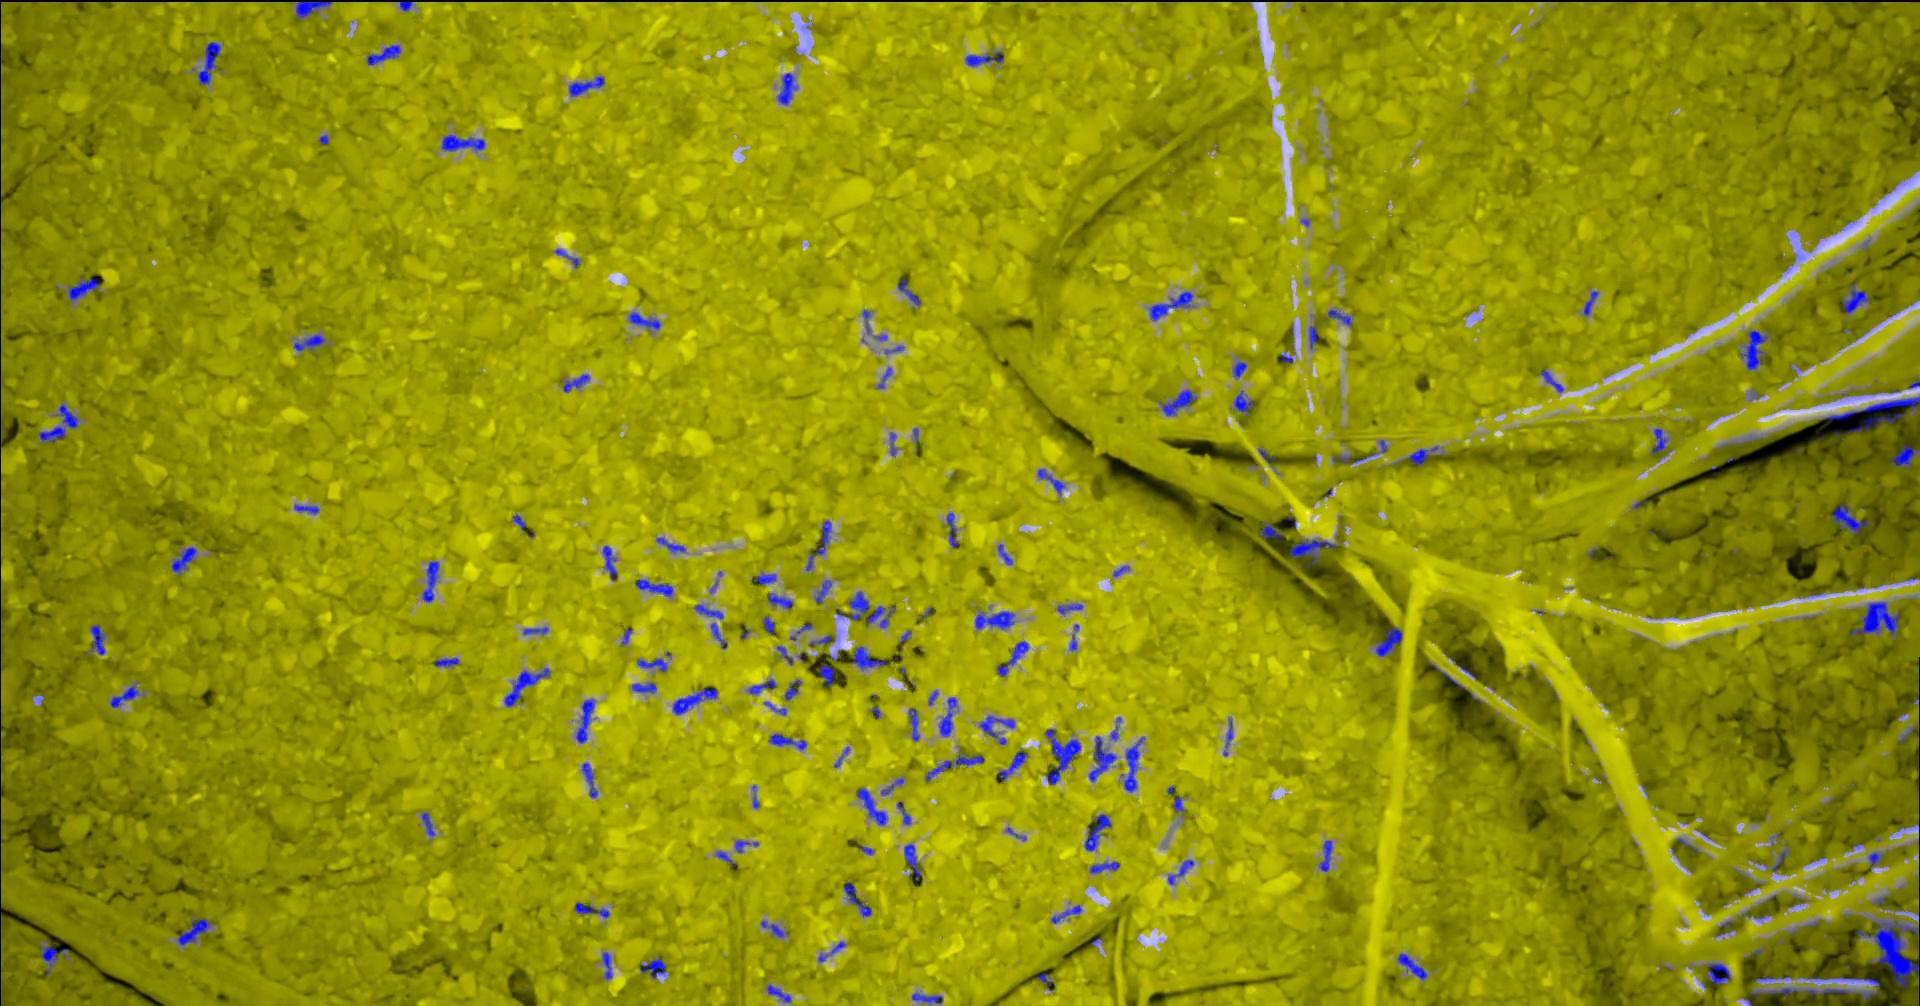ant: (1820, 396, 1919, 433), (1749, 976, 1879, 998), (1044, 728, 1079, 784), (1848, 601, 1898, 636), (504, 667, 549, 706), (924, 753, 983, 780), (38, 403, 77, 441), (1289, 539, 1337, 567), (805, 520, 830, 570), (1831, 500, 1868, 535), (1149, 291, 1192, 320), (672, 687, 717, 714), (1088, 735, 1115, 781), (1123, 735, 1144, 791), (996, 640, 1029, 676), (856, 788, 888, 824), (1738, 330, 1768, 370), (979, 715, 1015, 744), (41, 939, 69, 976), (197, 41, 220, 84), (1084, 813, 1111, 850), (997, 749, 1027, 781), (836, 591, 869, 620), (843, 882, 871, 916), (1161, 389, 1196, 415), (1841, 282, 1870, 312), (177, 918, 210, 945), (575, 699, 594, 743), (851, 647, 886, 669), (568, 75, 604, 97), (1397, 953, 1426, 979), (441, 133, 484, 151), (110, 685, 143, 708), (1375, 626, 1401, 655), (67, 276, 98, 300), (938, 697, 957, 735), (1404, 445, 1437, 466), (1037, 467, 1064, 494), (295, 0, 331, 19), (422, 561, 439, 601), (366, 44, 400, 65), (170, 546, 196, 573), (974, 611, 1015, 627), (1890, 445, 1919, 467), (777, 72, 797, 104), (1167, 859, 1192, 884), (866, 605, 894, 627), (768, 733, 806, 749), (1538, 368, 1563, 392), (635, 579, 672, 596), (964, 51, 1003, 66), (903, 843, 921, 876), (897, 279, 919, 305), (639, 956, 665, 978), (629, 311, 660, 329), (1051, 904, 1081, 923), (1705, 962, 1730, 984), (293, 333, 324, 351), (574, 902, 610, 917), (582, 762, 597, 796), (89, 624, 105, 654), (602, 545, 616, 580), (759, 920, 787, 937), (1258, 521, 1283, 541), (563, 373, 589, 391), (655, 537, 684, 553), (1233, 390, 1253, 412), (817, 663, 834, 687), (767, 984, 791, 1002), (747, 678, 775, 694), (554, 249, 579, 265), (1651, 428, 1667, 453), (767, 592, 792, 608), (946, 512, 957, 547), (1771, 845, 1787, 871), (1318, 840, 1331, 871), (910, 992, 942, 1005), (1327, 309, 1351, 325), (695, 605, 723, 619), (710, 622, 725, 648), (636, 658, 667, 671), (908, 708, 919, 741), (815, 579, 830, 603), (1583, 290, 1597, 315), (783, 680, 800, 700), (1090, 861, 1119, 873), (809, 634, 834, 647), (897, 801, 910, 824), (1223, 719, 1232, 754), (776, 645, 792, 664), (716, 851, 735, 868), (997, 544, 1012, 564), (734, 840, 758, 852), (631, 682, 657, 694), (422, 812, 434, 835), (601, 951, 611, 979), (750, 573, 775, 584), (762, 615, 775, 634), (1069, 624, 1078, 650), (1868, 851, 1883, 866), (1232, 361, 1246, 377), (1037, 973, 1051, 989), (293, 504, 319, 513), (1057, 605, 1082, 614), (433, 657, 458, 666), (1172, 794, 1183, 810), (523, 626, 547, 634), (1308, 325, 1316, 348), (399, 0, 411, 11), (889, 432, 895, 455)
